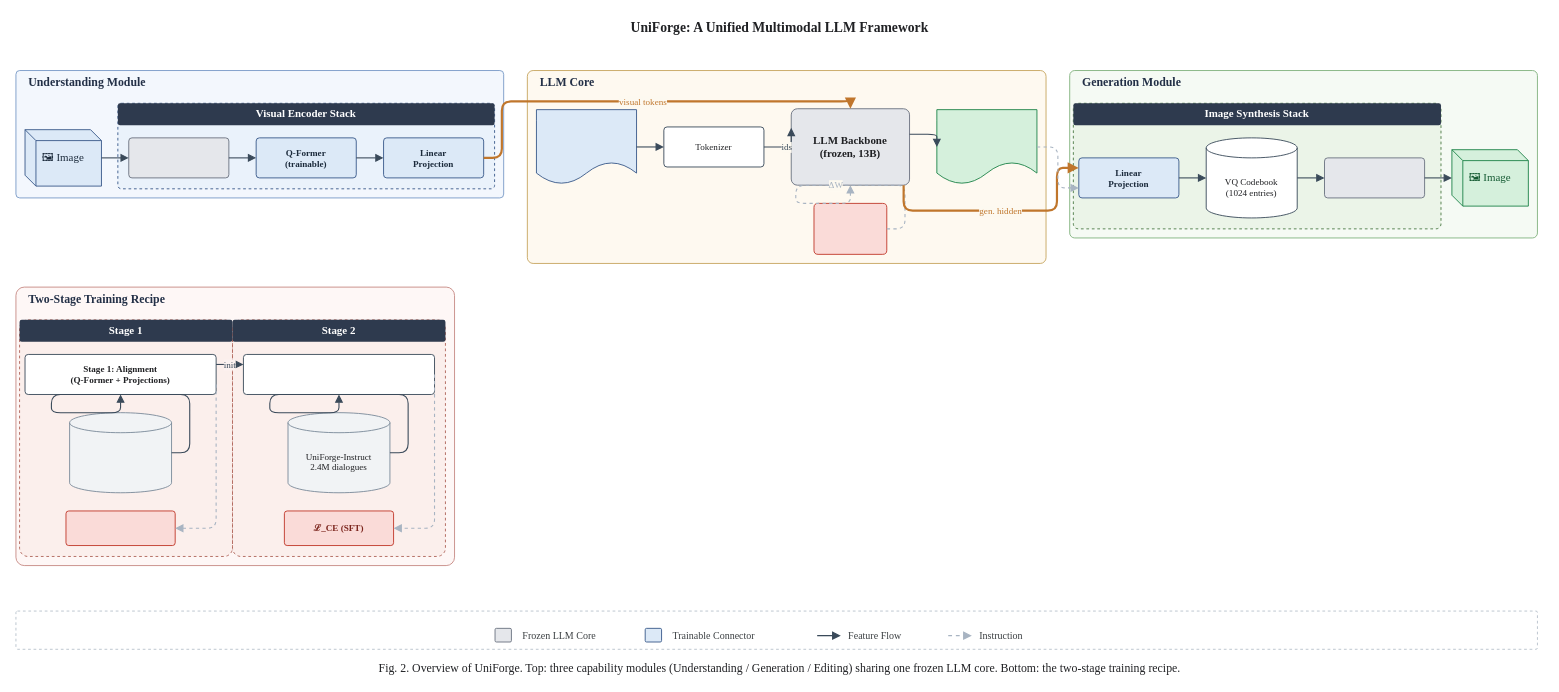
Some shapes in this 1559 by 692 pixel diagram are drawn without their labels. Here are the shapes that lost their labels. From the top down, the box of each, then its label:
(128, 137, 229, 178): ViT Encoder (frozen)
(536, 109, 637, 184): 📝 Instruction Text
(936, 109, 1037, 184): Response / Caption
(1324, 157, 1425, 198): Diffusion Decoder
(813, 202, 887, 254): LoRA Adapter
(243, 354, 435, 394): Stage 2: Instruction Tuning (LoRA only)
(69, 412, 172, 493): LAION-400M image–text pairs
(65, 510, 175, 546): ℒ_ITC + ℒ_ITM
